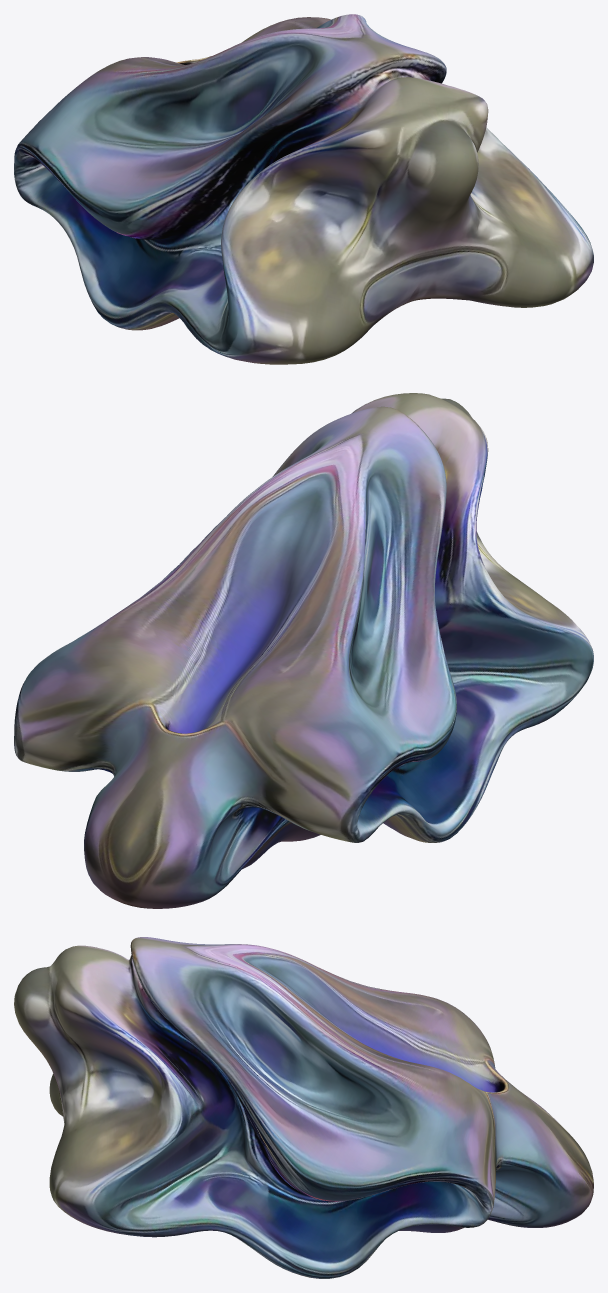
The model's file is blob-model.glb.
3 views of the same model, one above another, from view 1: azimuth 30°, elevation 25°; view 2: azimuth 150°, elevation 25°; view 3: azimuth 270°, elevation 25° (orthographic). The views are drawn at different scales.
Parts seen in each view (by area): view 1: model; view 2: model; view 3: model.
Part boxes in pixels (x1,y1,x2,y2): model: (14, 14, 593, 364); model: (14, 393, 593, 908); model: (14, 937, 593, 1278).
Bounding box in the file's own units: 1.13 × 1.05 × 1.81.
Materials: 1 (1 with a texture image).
